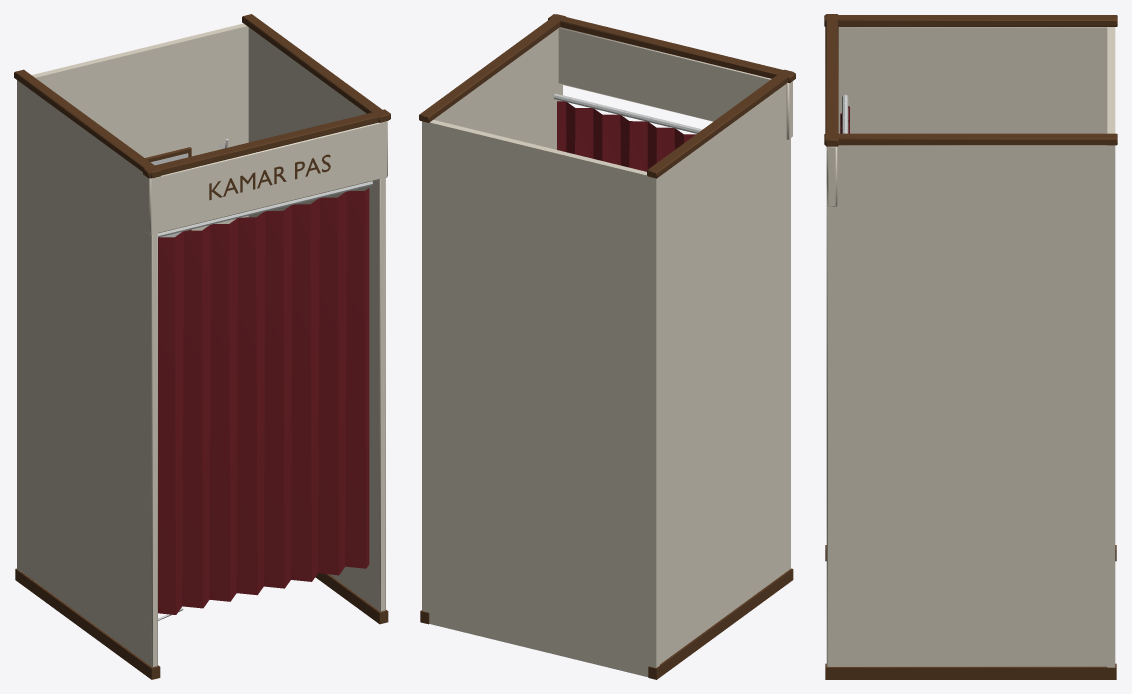
The model's file is fitting_room.glb.
3 views of the same model, side by side, from view 1: azimuth 30°, elevation 25°; view 2: azimuth 150°, elevation 25°; view 3: azimuth 270°, elevation 25° (orthographic). The views are drawn at different scales.
Visible parts, largest first — view 1: FittingBody, Door; view 2: FittingBody, Door; view 3: FittingBody.
Boxes of the visible parts, left/top/right/bottom form: FittingBody: left=14, top=14, right=390, bottom=679; Door: left=158, top=188, right=369, bottom=614; FittingBody: left=419, top=14, right=795, bottom=679; Door: left=557, top=97, right=695, bottom=171; FittingBody: left=824, top=14, right=1117, bottom=679.
Size of the model in its own units: 1.14 by 2.28 by 1.12.
